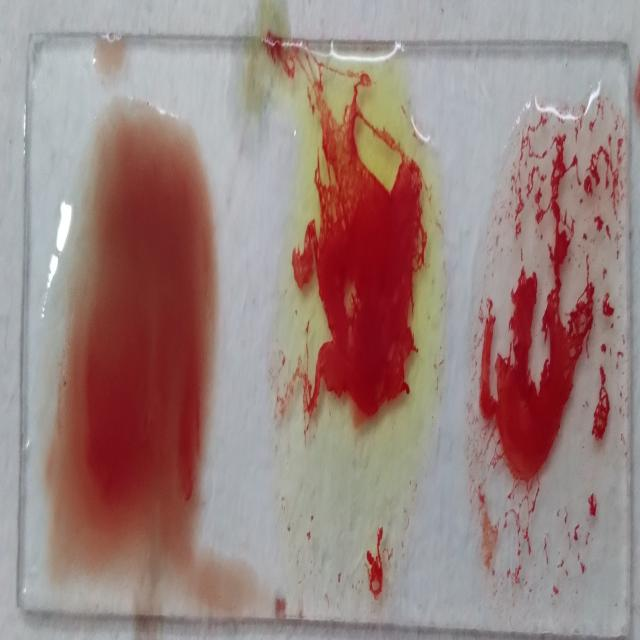B: (291, 52, 438, 598)
D: (466, 86, 625, 640)
